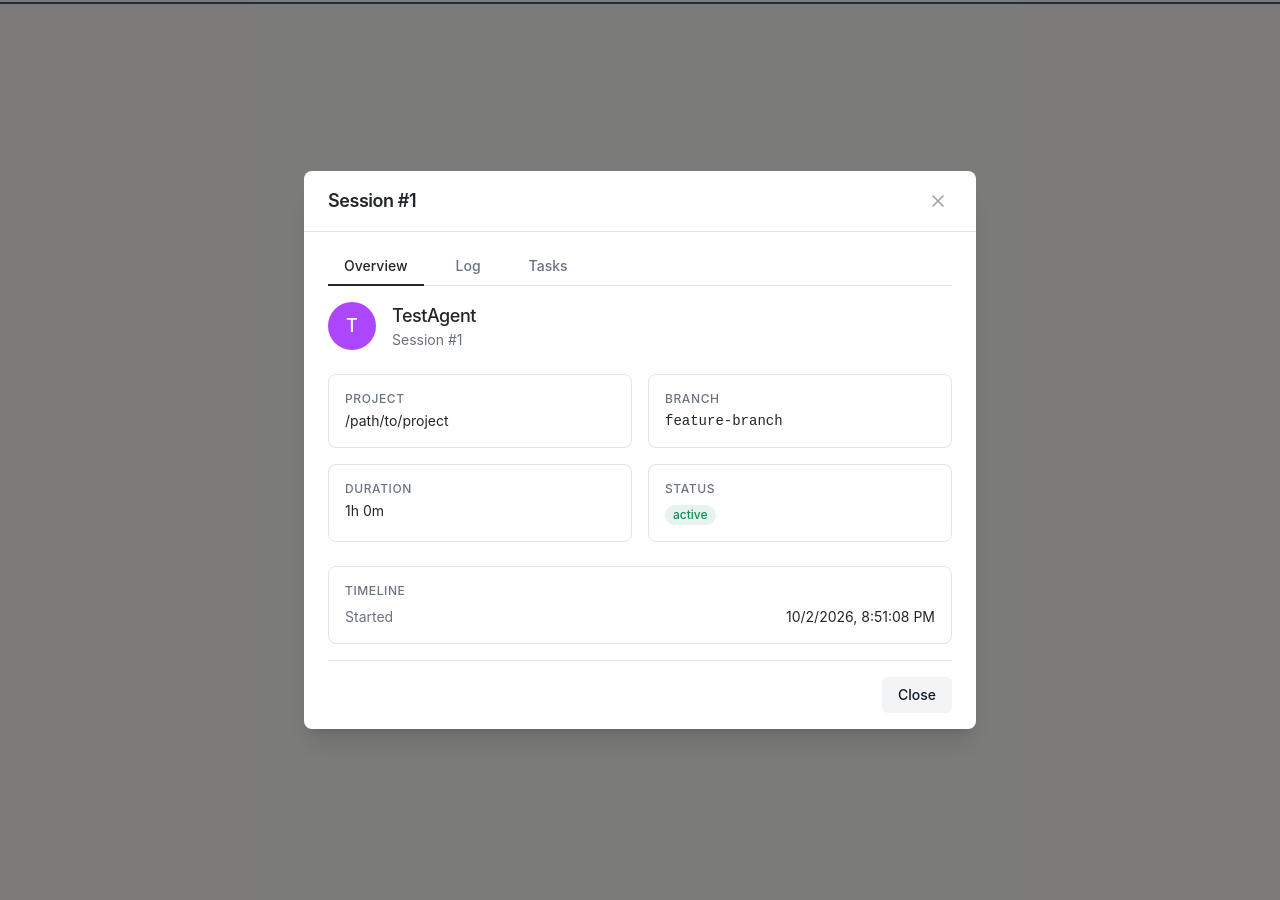
Scenario: SessionDetail › shows empty state for log tab
Click the button "Log": (468, 267) [440, 248, 496, 286]
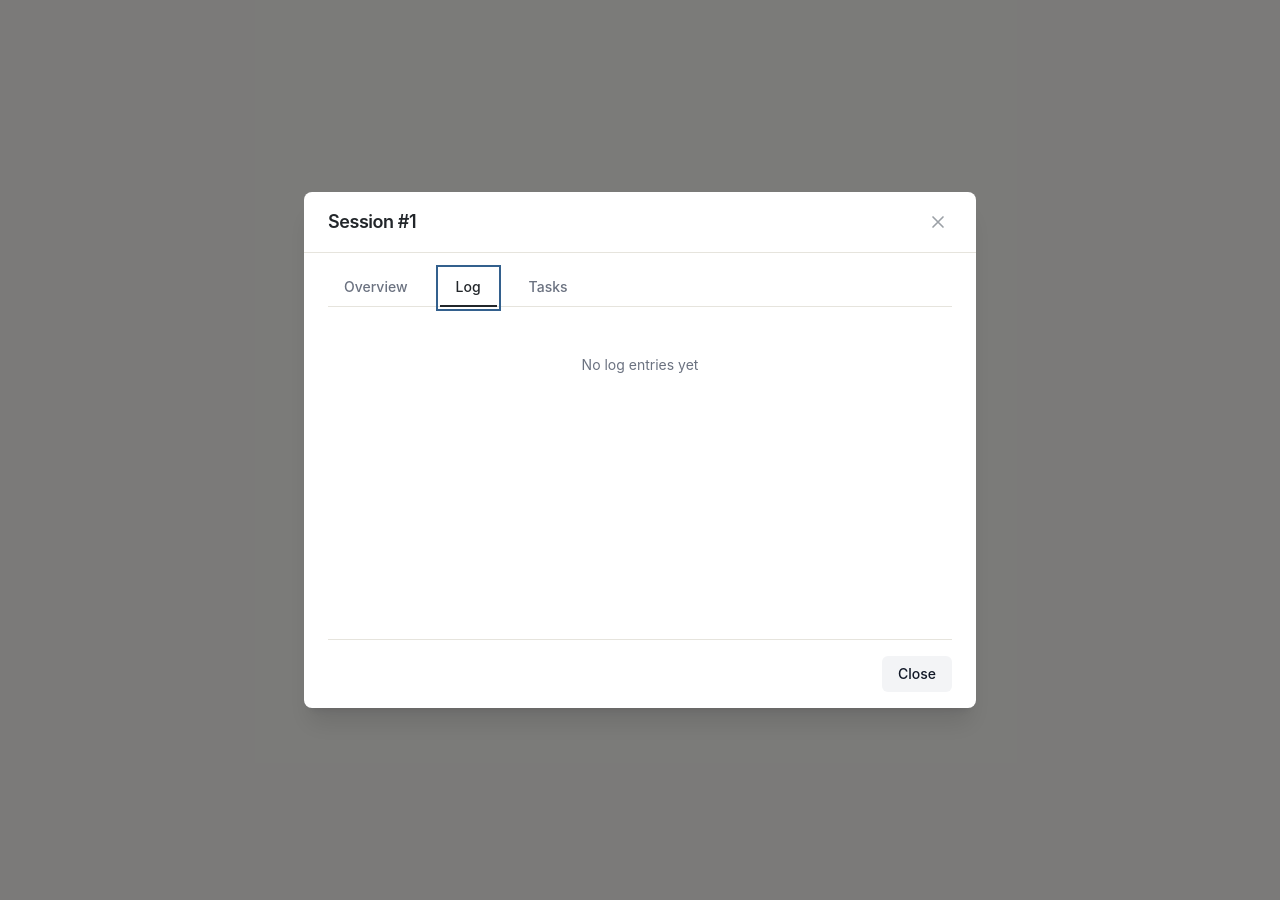
Result: the text "No log entries yet" is shown at [582, 356, 698, 373]
